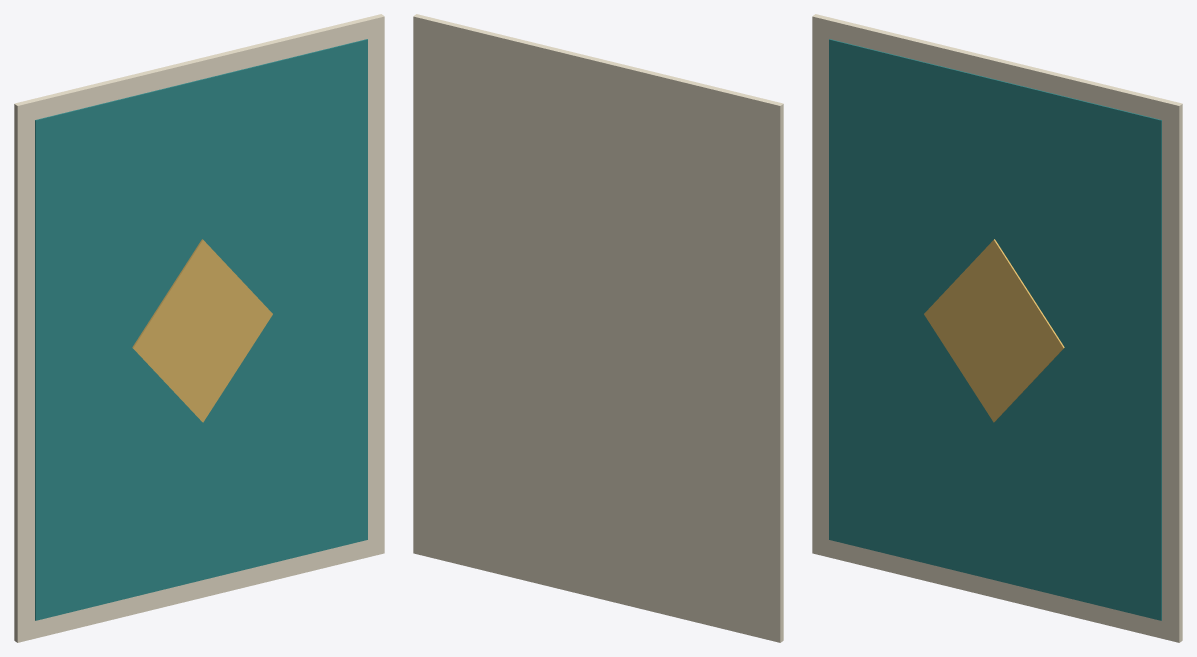
Rendered from tabletop-game-components-upright-card-5f8cda75__20885.glb.
3 views of the same model, side by side, from view 1: azimuth 30°, elevation 25°; view 2: azimuth 150°, elevation 25°; view 3: azimuth 330°, elevation 25° (orthographic).
Parts seen in each view (by area): view 1: upright-card; view 2: upright-card; view 3: upright-card.
Boxes of the visible parts, x1,y1,x2,y2 form: upright-card: (14,14,384,642); upright-card: (413,14,783,642); upright-card: (812,14,1182,642).
Bounding box in the file's own units: 0.063 × 0.088 × 0.0016.
